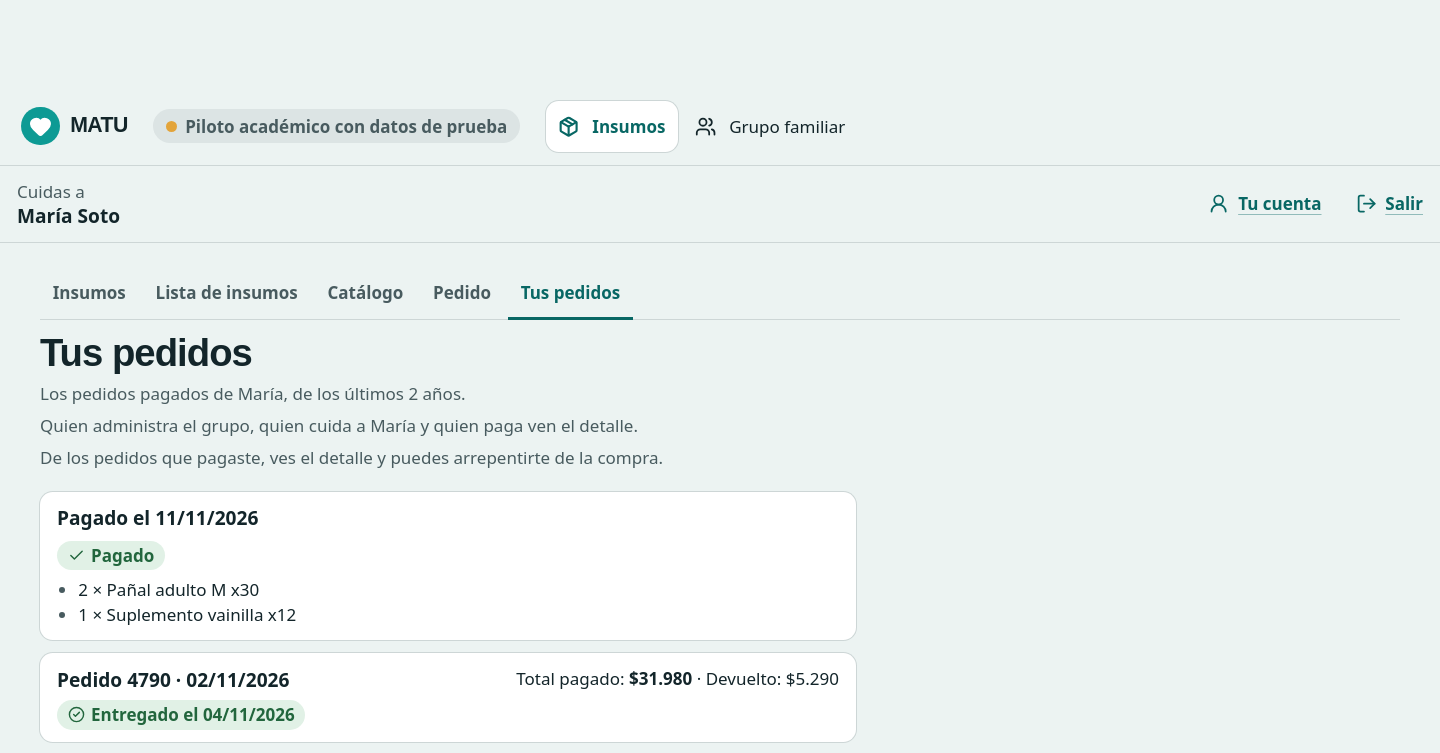
MATU-116 (H1, C10): la guarda del detalle no mira el rol › quien «Se informa» abre el pedido que pagó y se queda en el detalle; no vuelve a la lista
(page scrolled)
What coordinates should you click on to do the following:
click the button "Pedido 4790"
I would click on:
 (92, 680)
Its box is [40,653,856,742].
(page scrolled)
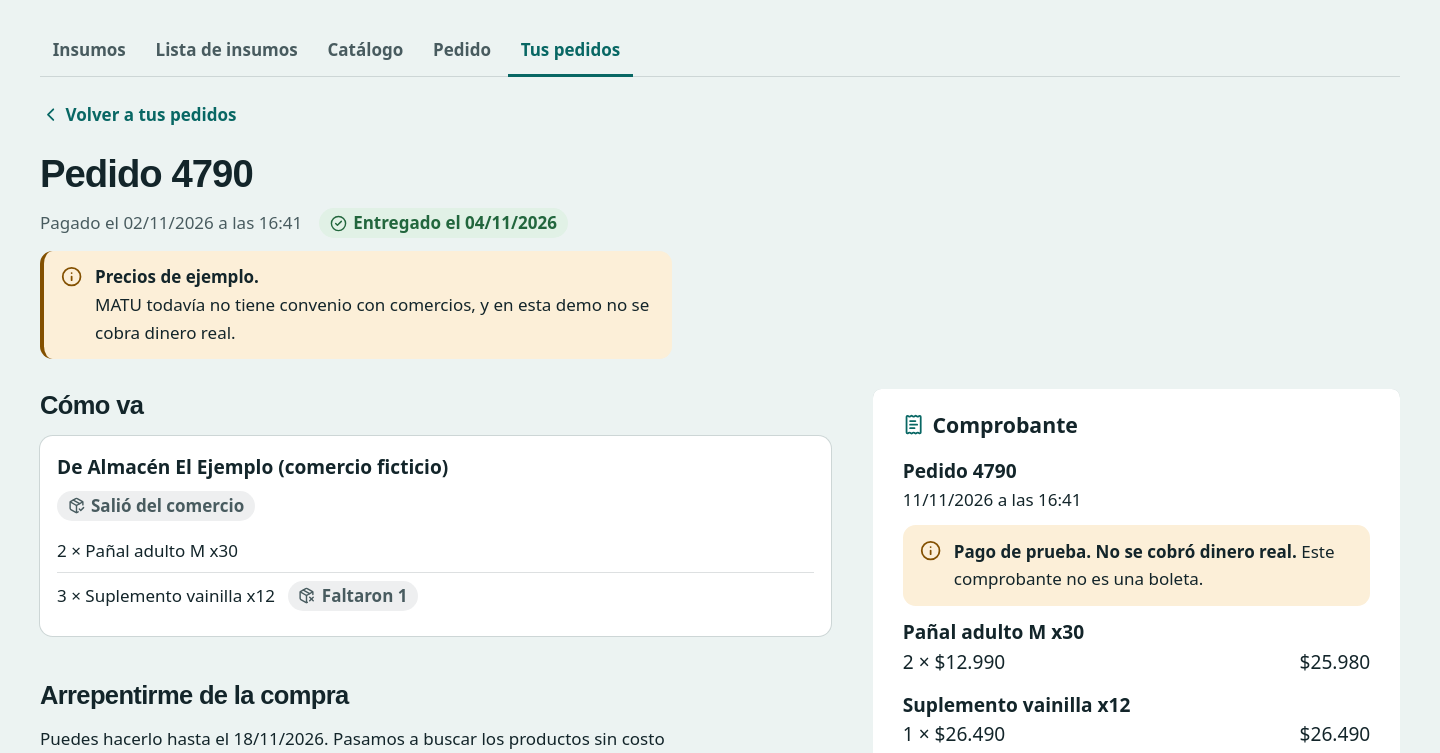
Expected: the heading "Pedido 4790" is shown, [40,153,253,196]
Expected: the heading "Cómo va" is shown, [40,391,143,419]
